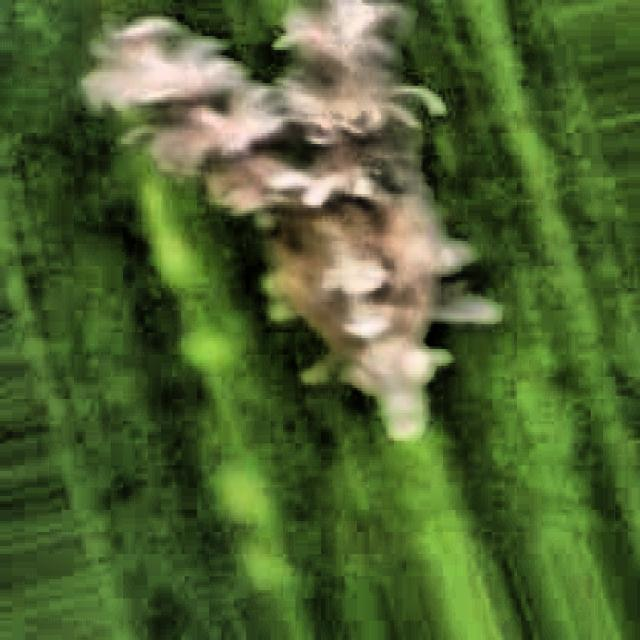Pyrilla-perpusilla: (45, 0, 528, 485)
